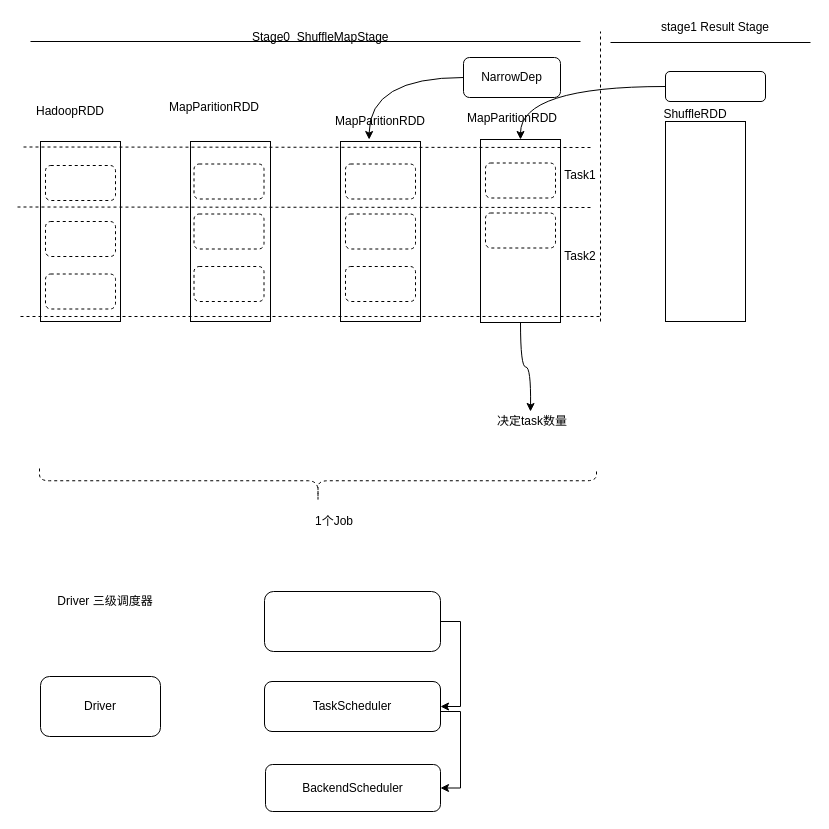
Some shapes in this 829 by 829 pixel diagram are drawn without their labels. Here are the shapes that lost their labels. From the top down, the box of each, then its label:
(664, 70, 766, 102): ShuffleDep
(264, 590, 440, 652): DageScheduler
